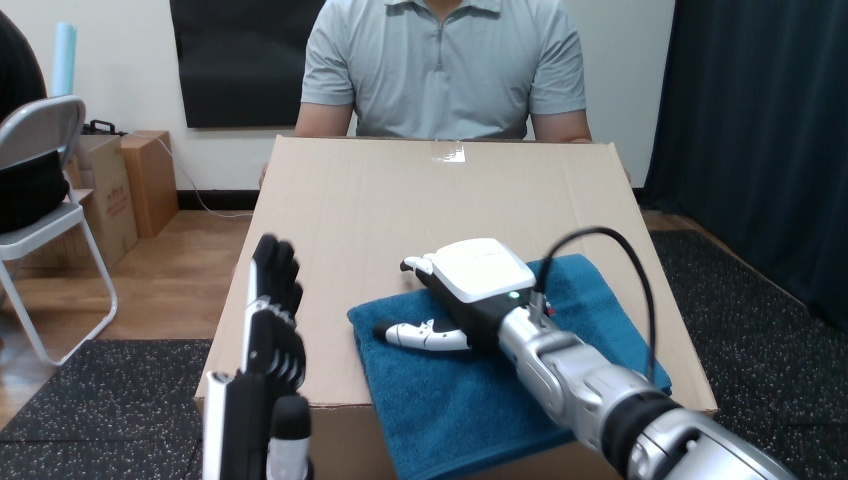left robot hand: (373, 239, 679, 476), (203, 234, 309, 479)
